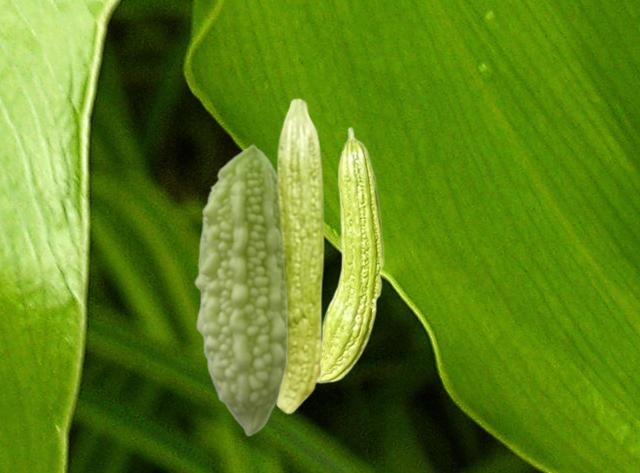ampalaya: (192, 143, 285, 438), (318, 124, 386, 386), (274, 96, 326, 416)
